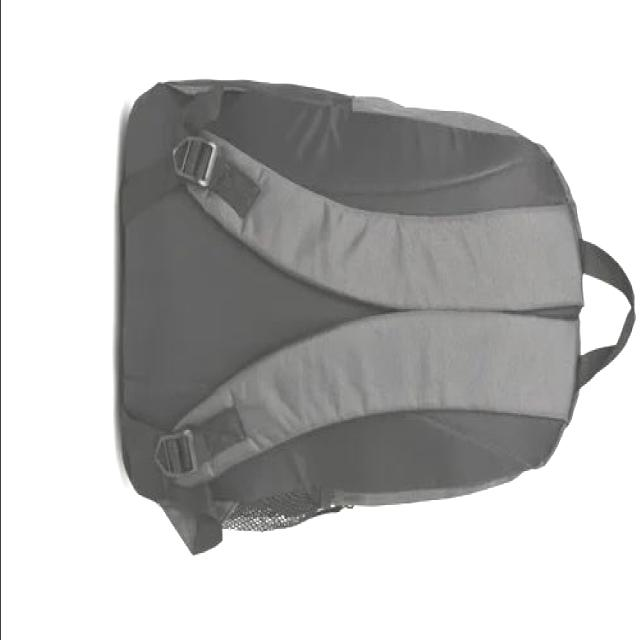backpack: (119, 78, 637, 556)
